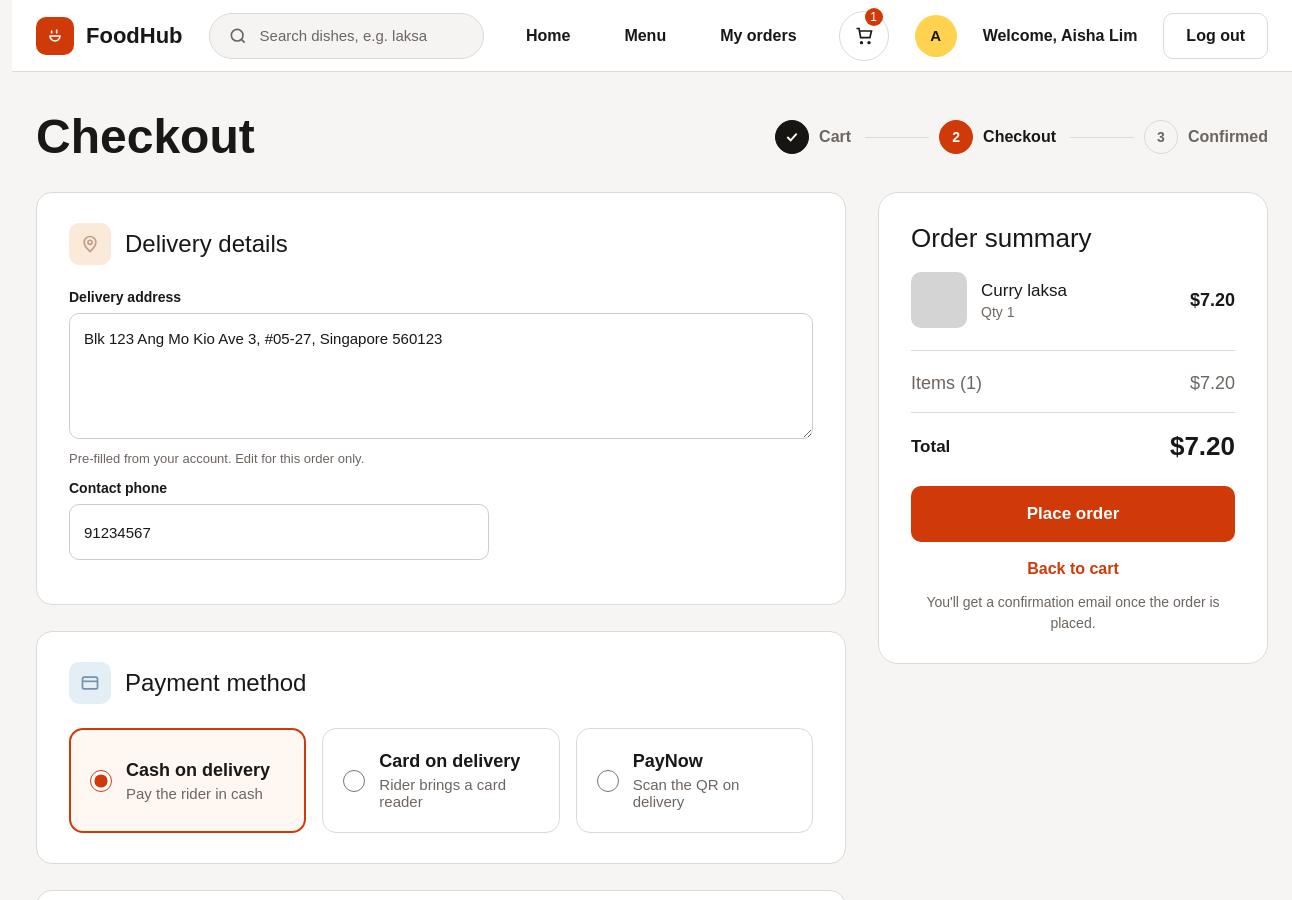
things that go wrong after the server already said yes › an order that was saved is not reported as failed when reloading the order list fails
The width and height of the screenshot is (1292, 900).
Click the button "Place order" at [1073, 514], box [911,486,1235,542]
(page scrolled)
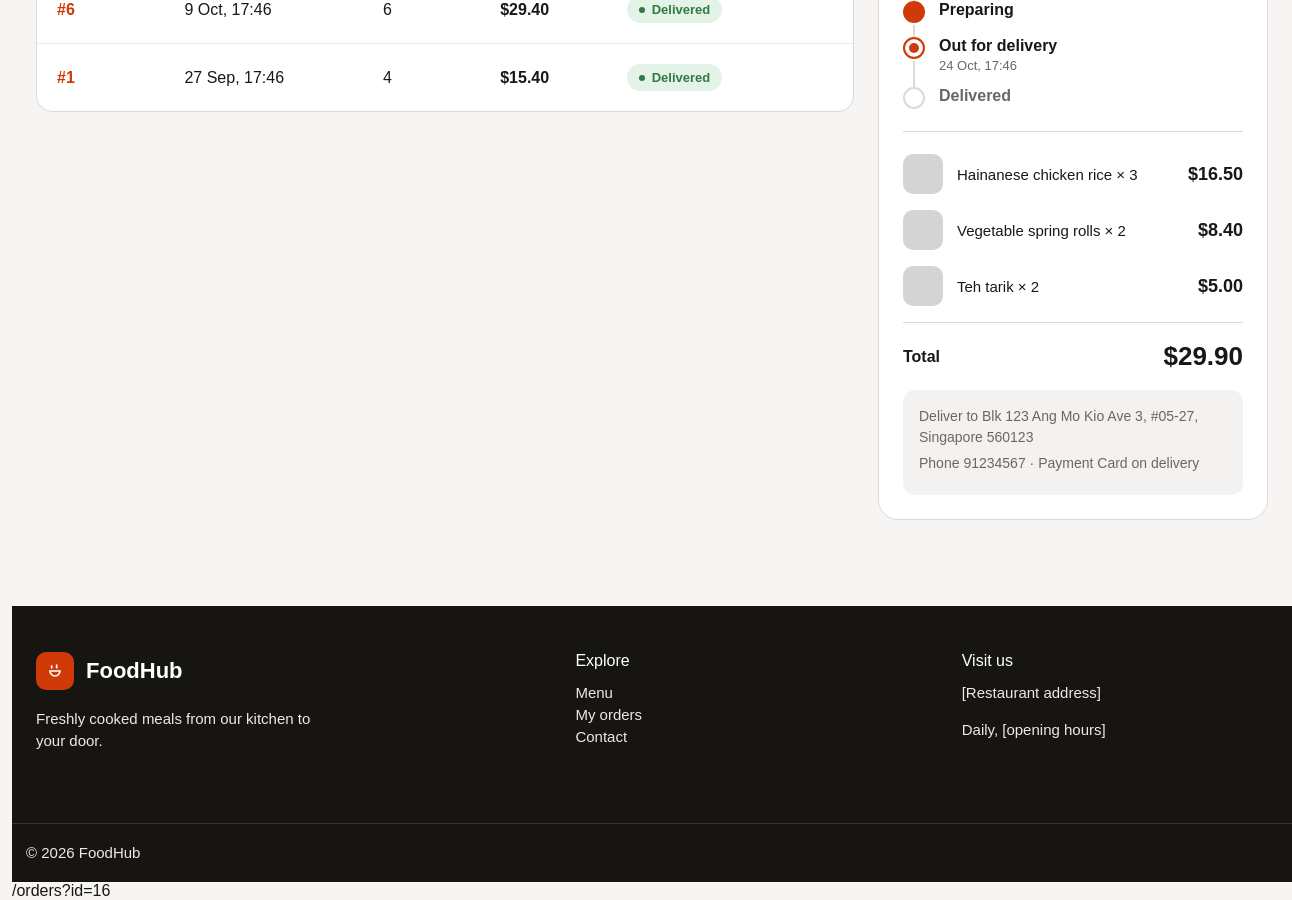
Expected: the text with test id "where" reads "/orders?id=16", [12,882,110,898]
